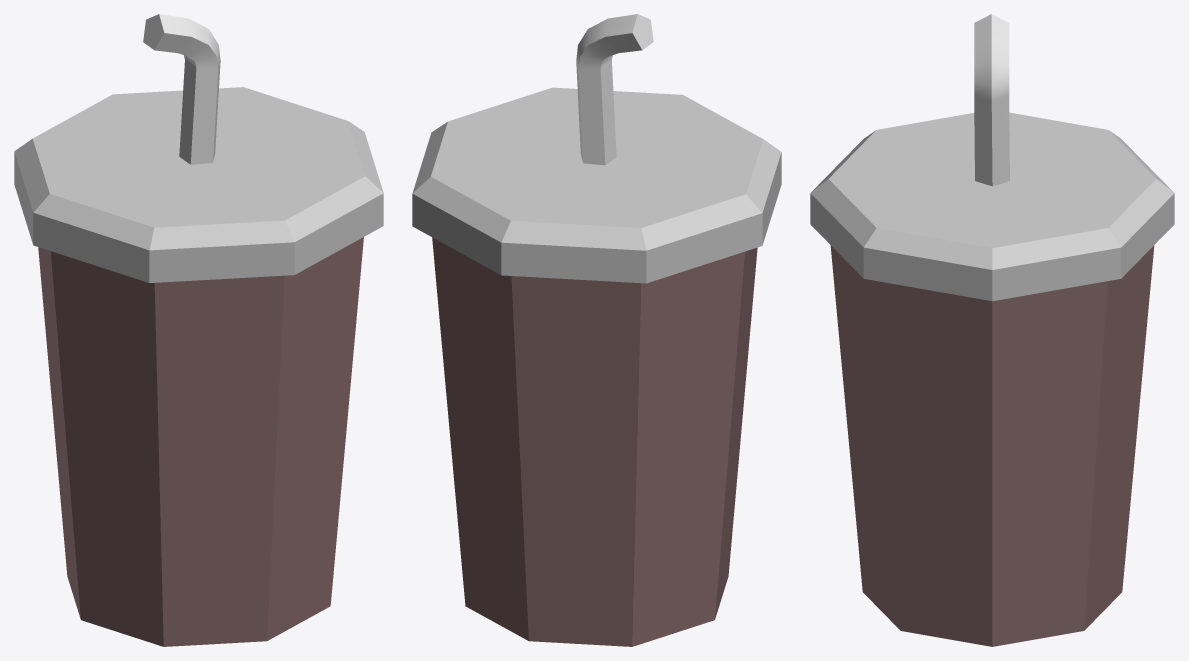
File: SodaCup.fbx
3 renders of one model, left to right at view 1: azimuth 30°, elevation 25°; view 2: azimuth 150°, elevation 25°; view 3: azimuth 270°, elevation 25°, orthographic. The views are drawn at different scales.
Visible parts, largest first — view 1: BigGulp; view 2: BigGulp; view 3: BigGulp.
Part boxes in pixels (bbox=[...]): BigGulp: bbox=[14, 14, 383, 646]; BigGulp: bbox=[412, 14, 781, 646]; BigGulp: bbox=[810, 14, 1174, 646].
Bounding box in the file's own units: 0.4763 × 0.8071 × 0.4763.
